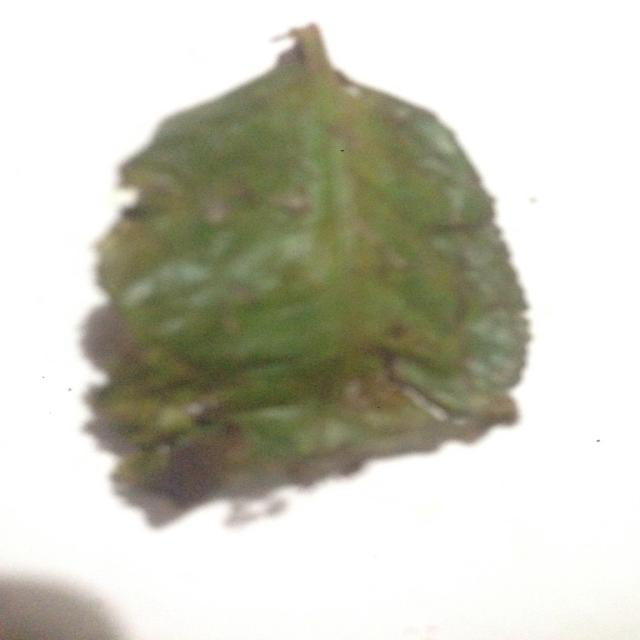Red Leaf Spot: (84, 19, 534, 518)
